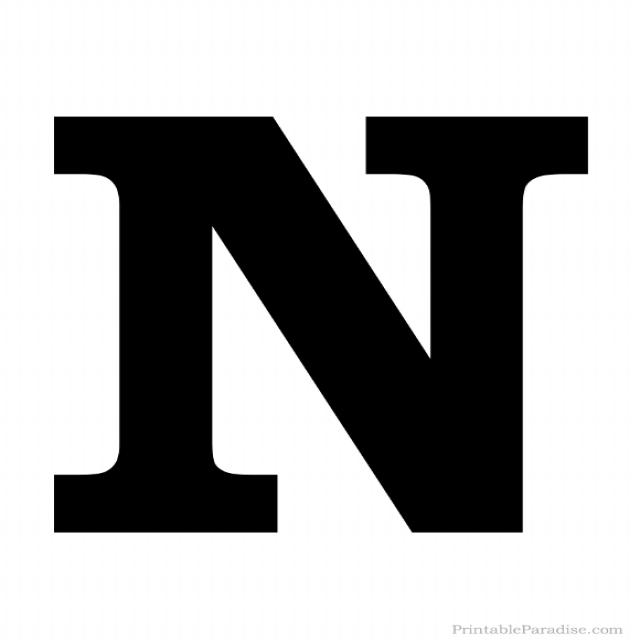N: (39, 74, 619, 576)
